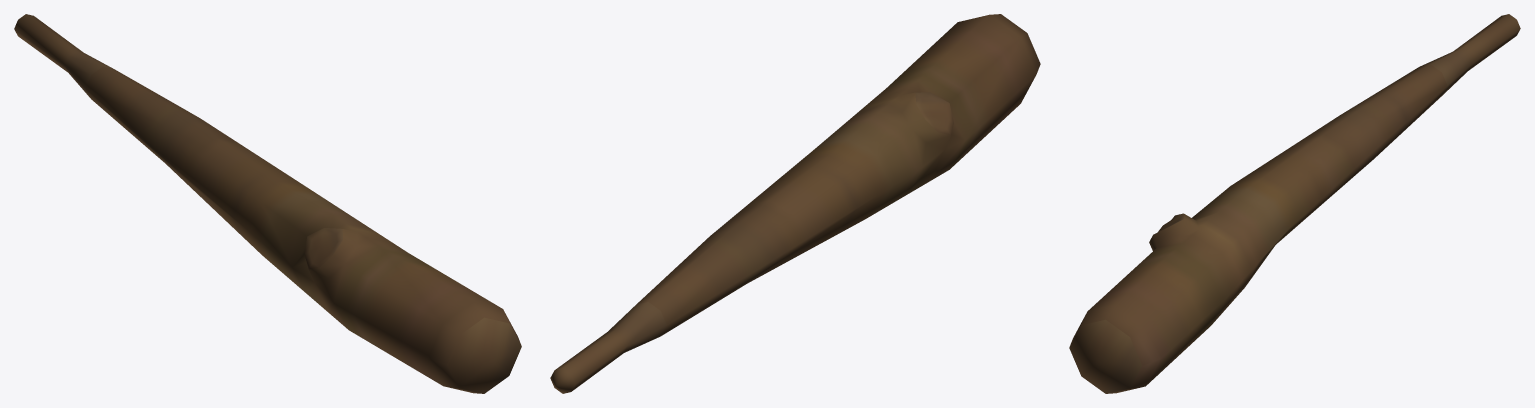
File: PlayerUnarmed.fbx
3 views of the same model, side by side, from view 1: azimuth 30°, elevation 25°; view 2: azimuth 150°, elevation 25°; view 3: azimuth 330°, elevation 25° (orthographic). The views are drawn at different scales.
Parts seen in each view (by area): view 1: model; view 2: model; view 3: model.
Part boxes in pixels (x1=…): model: x1=14, y1=14, x2=521, y2=393; model: x1=550, y1=14, x2=1040, y2=393; model: x1=1069, y1=14, x2=1520, y2=393.
Size of the model in its own units: 0.1606 by 0.1384 by 1.15.
1 material, 1 textured.
